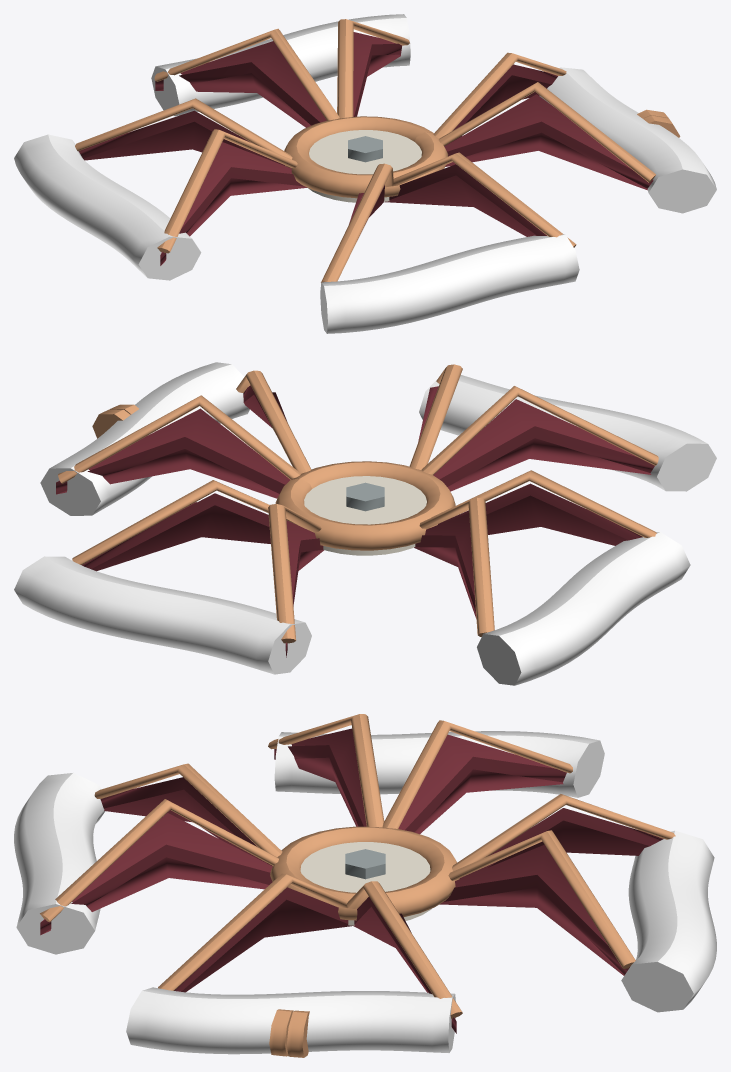
File: Wheel_30_UR_濃藍・赤金翼.glb
3 renders of one model, top to bottom at view 1: azimuth 30°, elevation 25°; view 2: azimuth 150°, elevation 25°; view 3: azimuth 270°, elevation 25°, orthographic. The views are drawn at different scales.
Visible parts, largest first — view 1: Wheel_30_UR; view 2: Wheel_30_UR; view 3: Wheel_30_UR.
Boxes of the visible parts, x1=… form: Wheel_30_UR: x1=14, y1=14, x2=716, y2=333; Wheel_30_UR: x1=14, y1=362, x2=716, y2=685; Wheel_30_UR: x1=14, y1=714, x2=716, y2=1057.
Size of the model in its own units: 0.3097 by 0.057 by 0.3019.
Materials: 4 (4 with a texture image).
